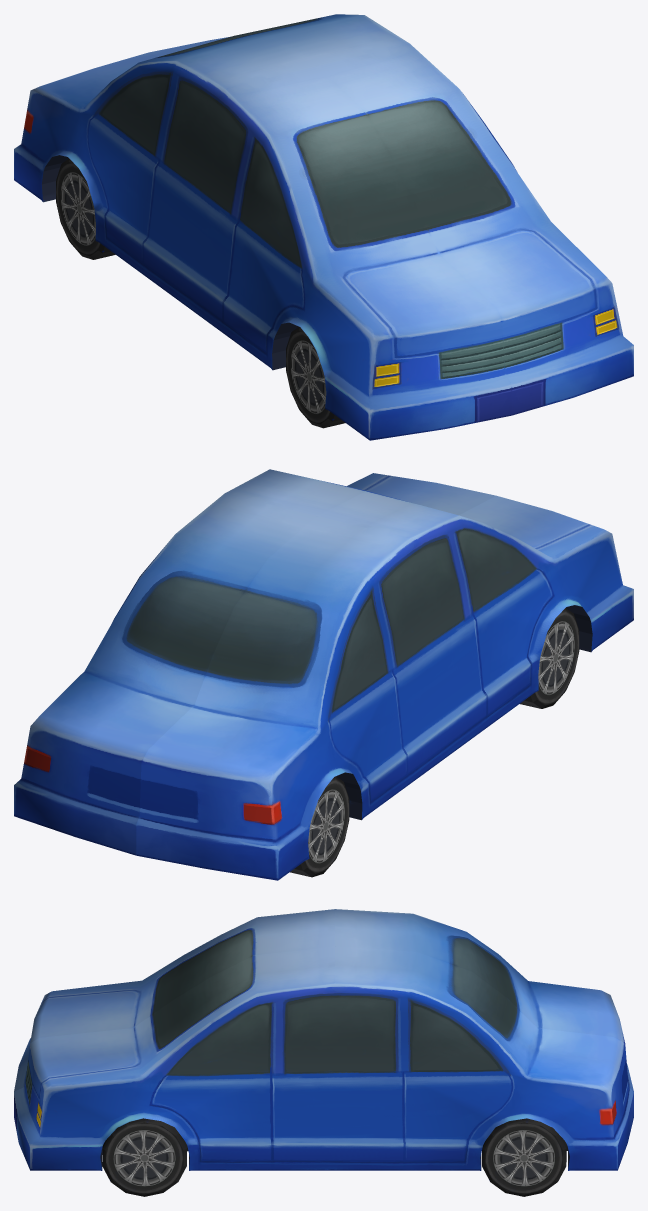
File: model_Mcar4.FBX
3 renders of one model, top to bottom at view 1: azimuth 30°, elevation 25°; view 2: azimuth 150°, elevation 25°; view 3: azimuth 270°, elevation 25°, orthographic. The views are drawn at different scales.
Parts seen in each view (by area): view 1: model_Mcar4; view 2: model_Mcar4; view 3: model_Mcar4.
Boxes of the visible parts, x1,y1,x2,y2 form: model_Mcar4: (14,14,633,440); model_Mcar4: (14,469,633,880); model_Mcar4: (14,909,633,1196).
Bounding box in the file's own units: 94.96 × 83.49 × 232.
